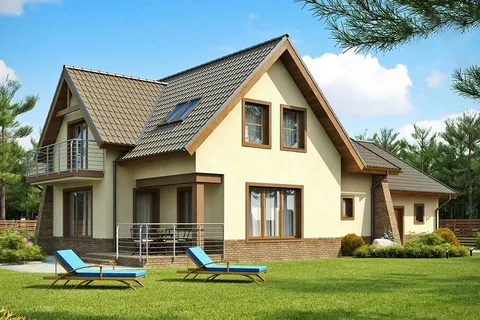private_hause: (47, 34, 366, 257)
